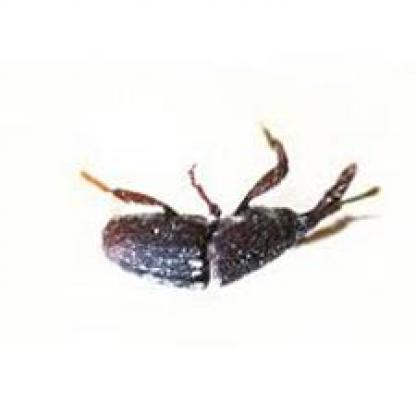rice-bug: (101, 154, 376, 290)
